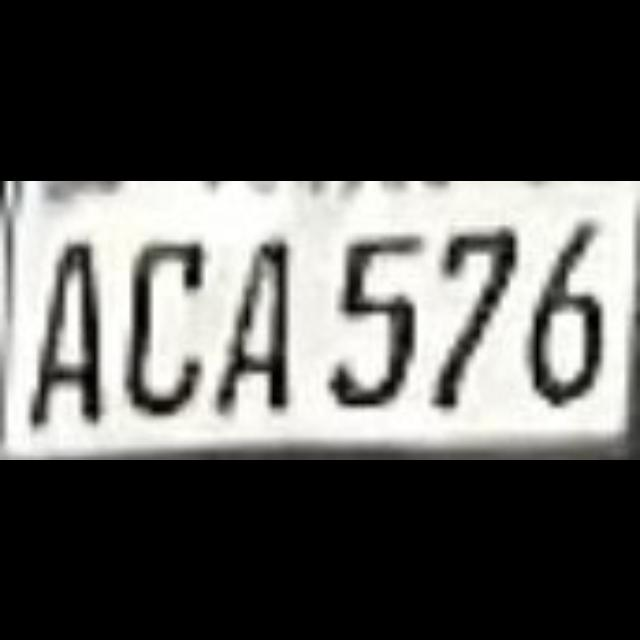5: (324, 218, 421, 418)
6: (520, 218, 618, 418)
7: (422, 218, 520, 418)
A: (226, 218, 324, 418), (30, 218, 126, 418)
C: (128, 218, 225, 418)
